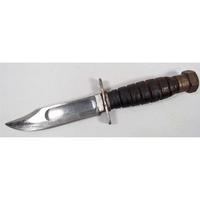knife: (3, 66, 200, 135)
